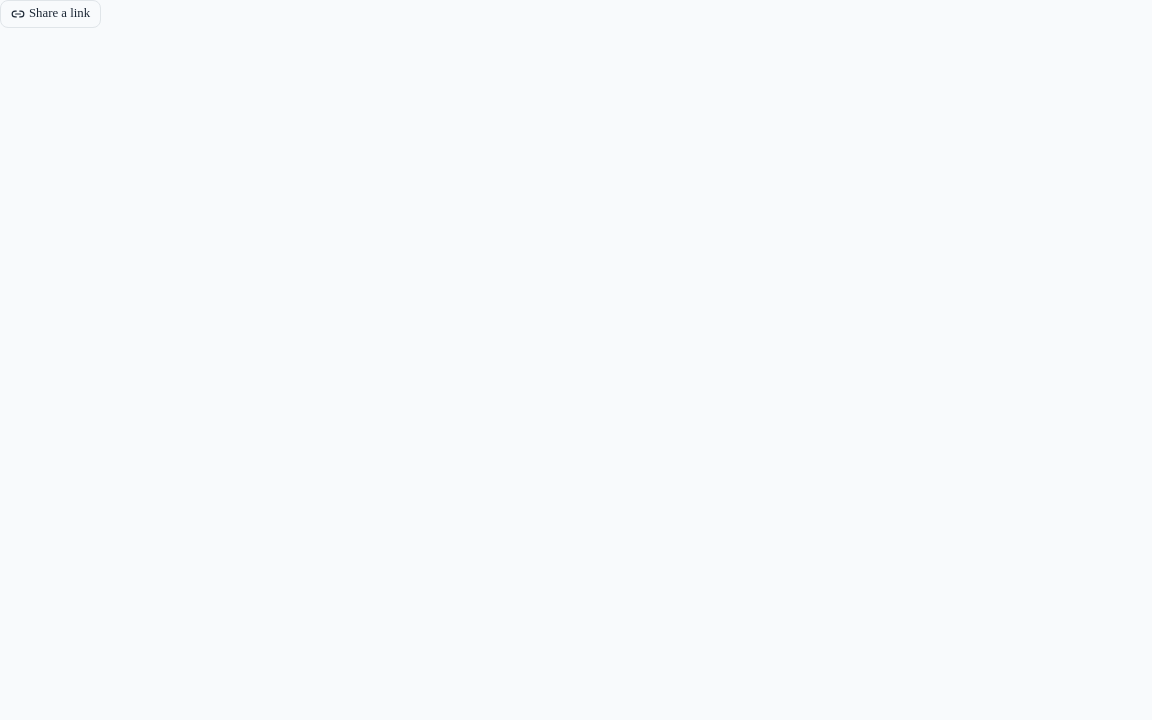
Test: ShareLinkButton › refuses an inverted range instead of letting the request come back refused
The image size is (1152, 720).
Later steps or results of the test are not shown.
Click the button "Share a link".
click(51, 14)  # box [0,0,101,28]
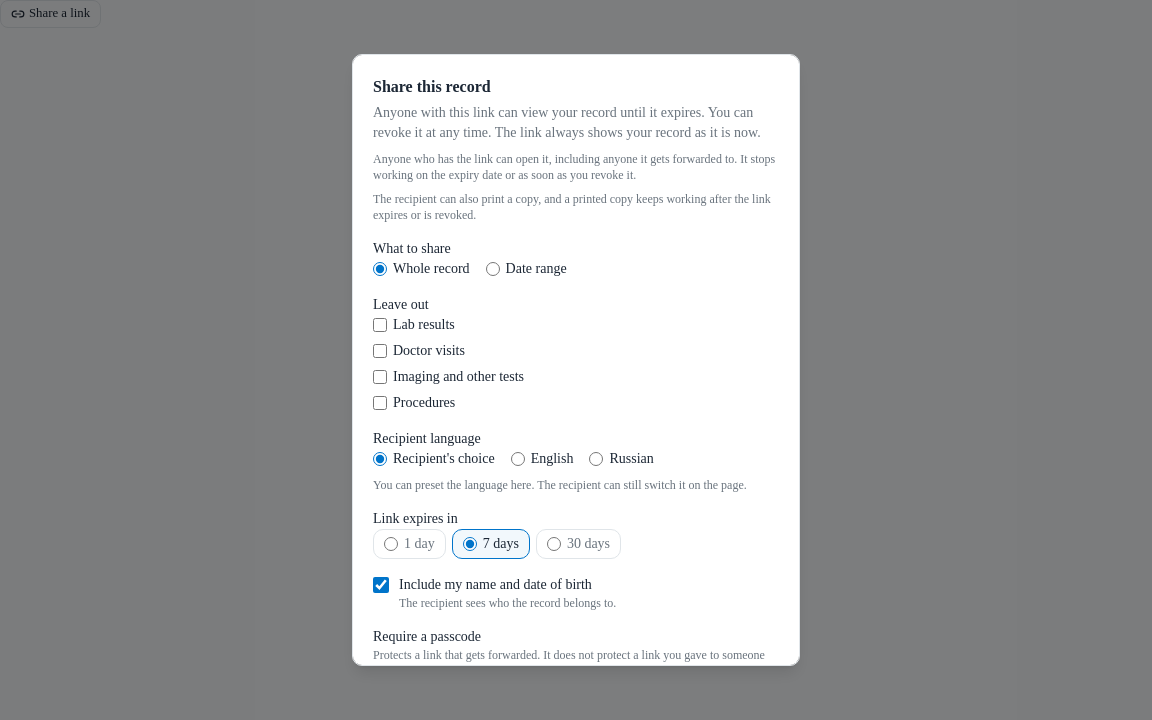
Click the radio button labelled "Date range".
click(493, 269)  # box [486,262,500,276]
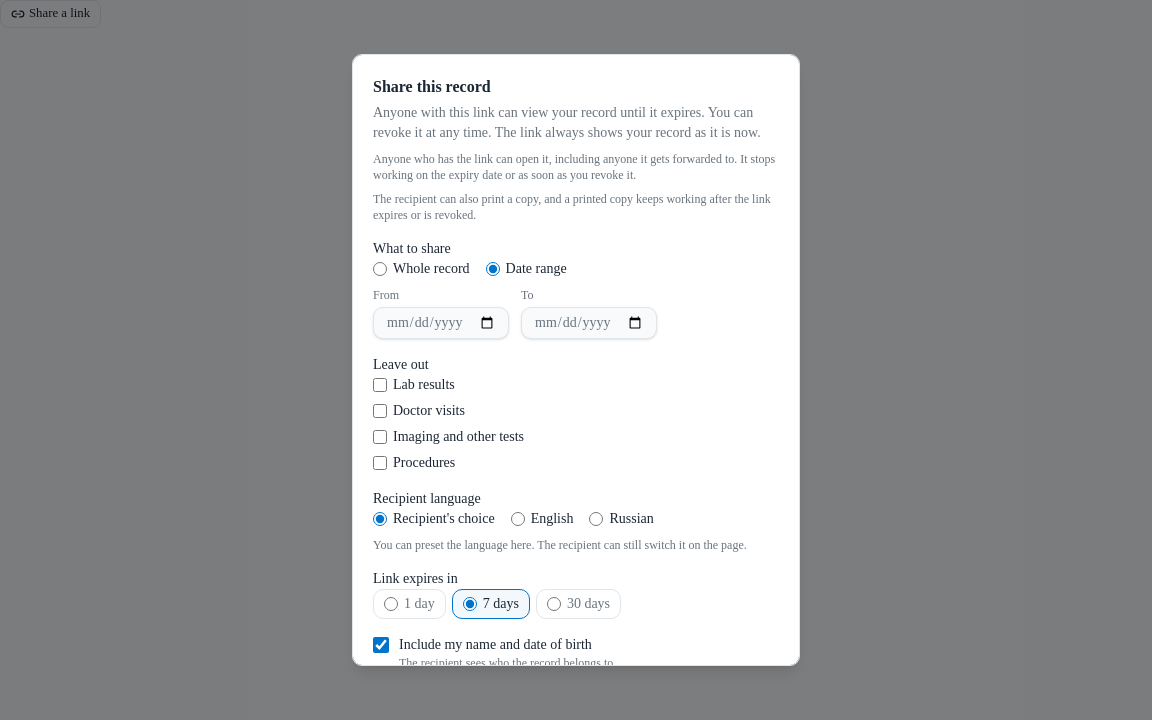
Type "2026-03-31" into the date field with test id "share-scope-from".
click(441, 323); type("2026-03-31")  # box [373,307,509,339]
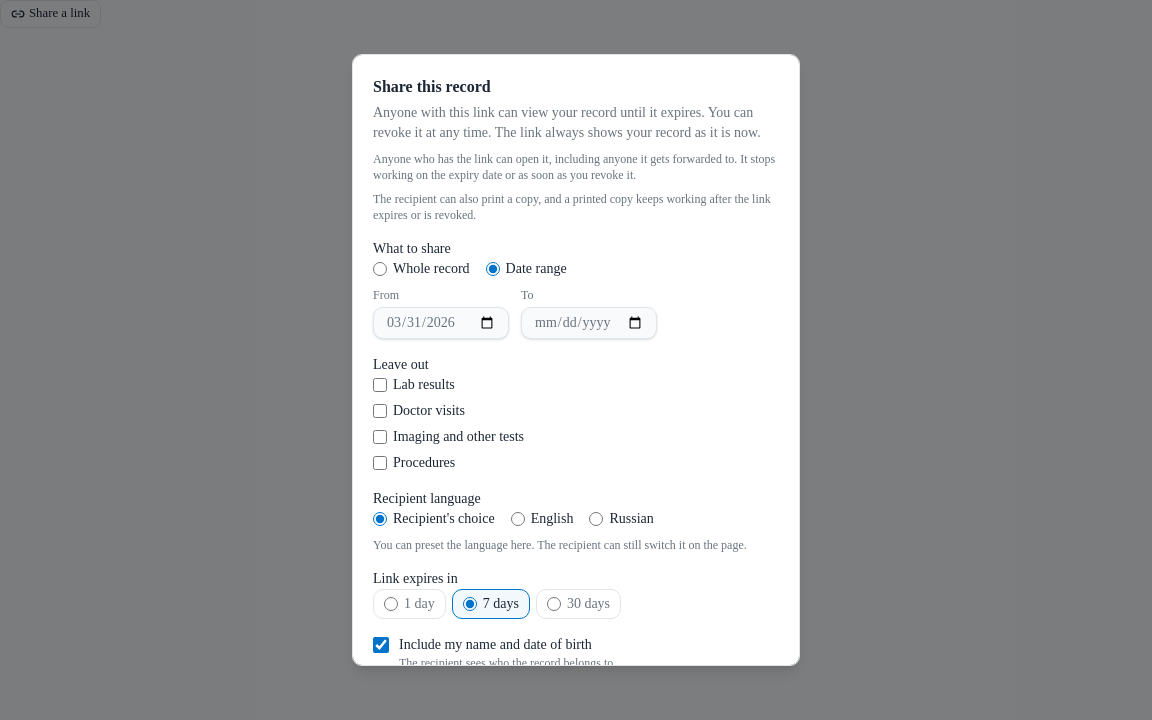
Type "2026-01-01" into the date field with test id "share-scope-to".
click(589, 323); type("2026-01-01")  # box [521,307,657,339]
(page scrolled)
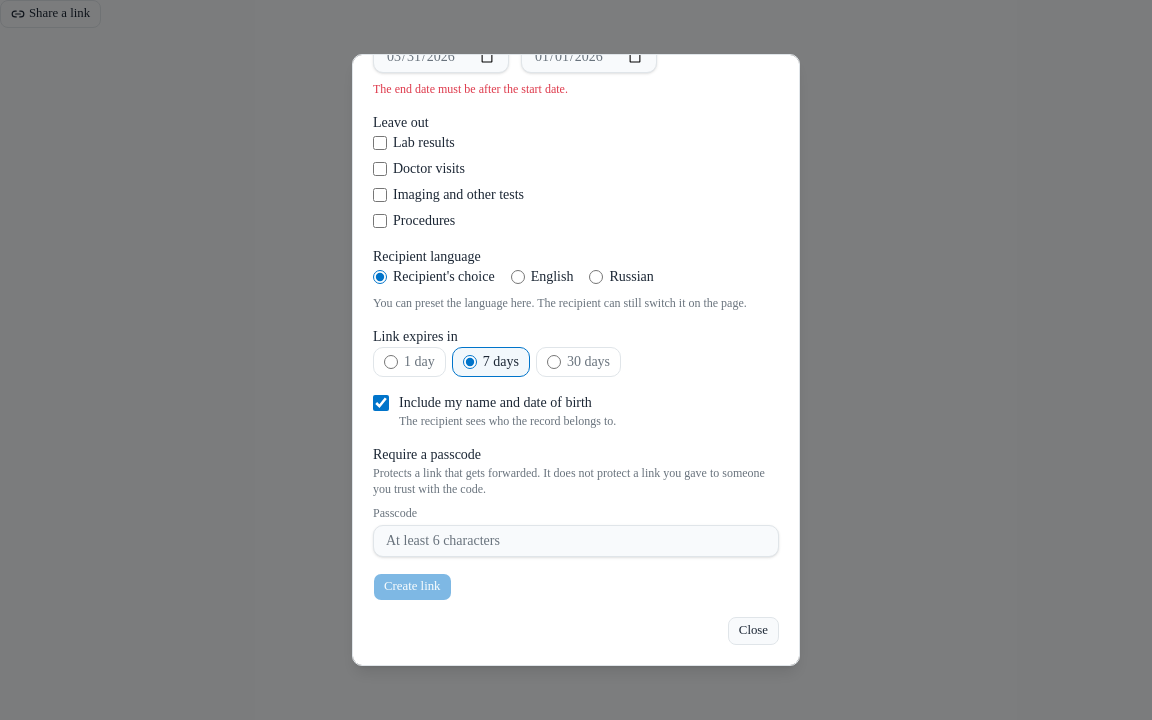
Expected: the text "The end date must be after the start date." is shown, [373,82,568,96]
Expected: the button "Create link" is disabled, [373,573,452,601]
